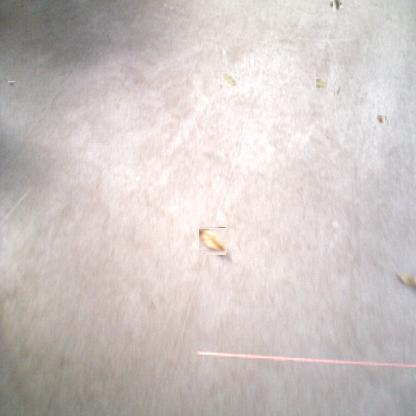dirty: (200, 228, 227, 254), (394, 270, 416, 290), (223, 72, 237, 87), (315, 78, 327, 89), (331, 0, 342, 10), (377, 115, 386, 125)
mark: (334, 84, 340, 96), (8, 81, 15, 87), (219, 83, 223, 90)
